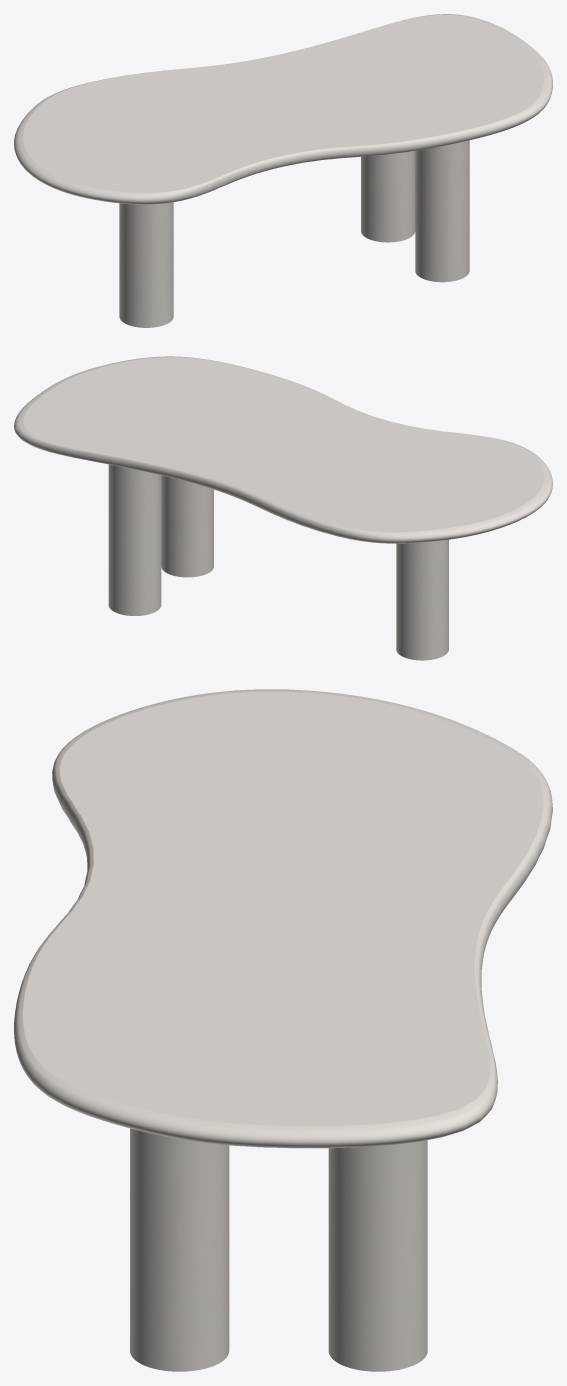
File: pearlwhite_wave_round_cylinder.glb
The picture shows the model from 3 angles, top to bottom: view 1: azimuth 30°, elevation 25°; view 2: azimuth 150°, elevation 25°; view 3: azimuth 270°, elevation 25°; orthographic projection. The views are drawn at different scales.
Visible parts, largest first — view 1: round_wave, cylinder; view 2: round_wave, cylinder; view 3: round_wave, cylinder.
Part boxes in pixels (x1,y1,x2,y2): round_wave: [14, 14, 552, 204]; cylinder: [119, 140, 469, 327]; round_wave: [14, 356, 552, 543]; cylinder: [108, 464, 448, 660]; round_wave: [14, 689, 552, 1148]; cylinder: [130, 1128, 427, 1371].
Size of the model in its own units: 7.5 by 2.52 by 3.8.
1 material, 1 textured.
